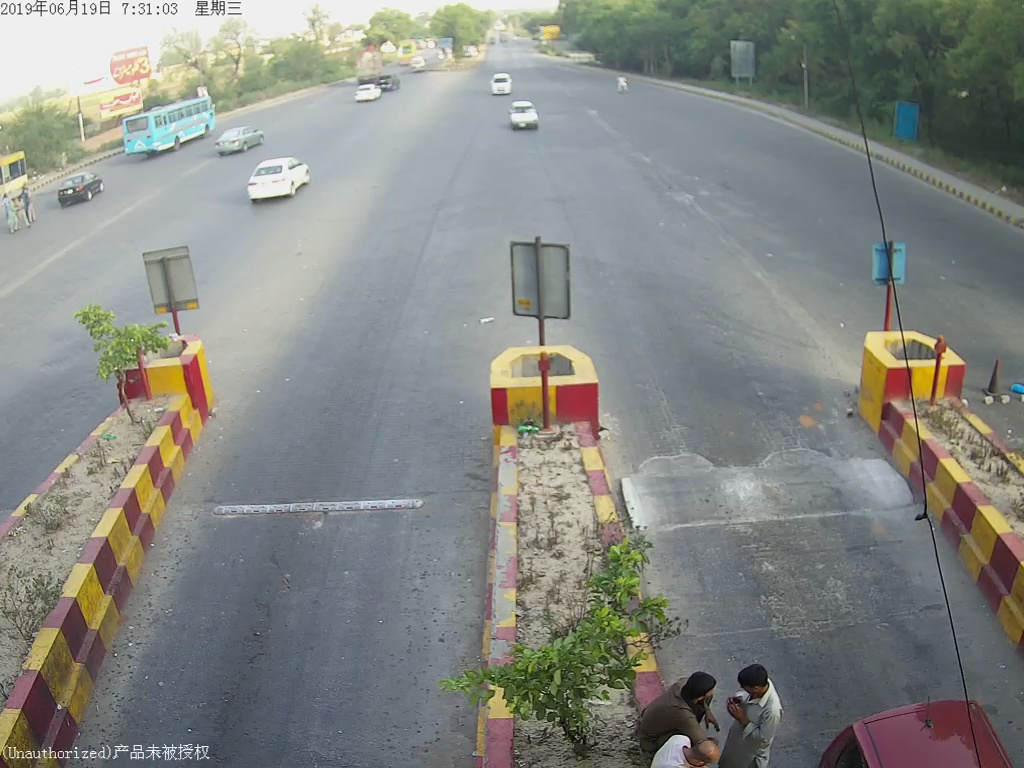Cat-1: (504, 102, 546, 135)
